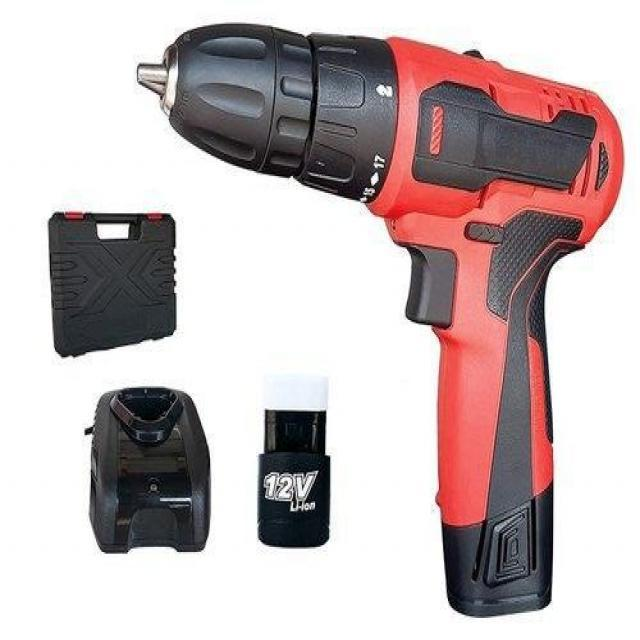drill: (137, 22, 626, 620), (84, 386, 212, 556)
